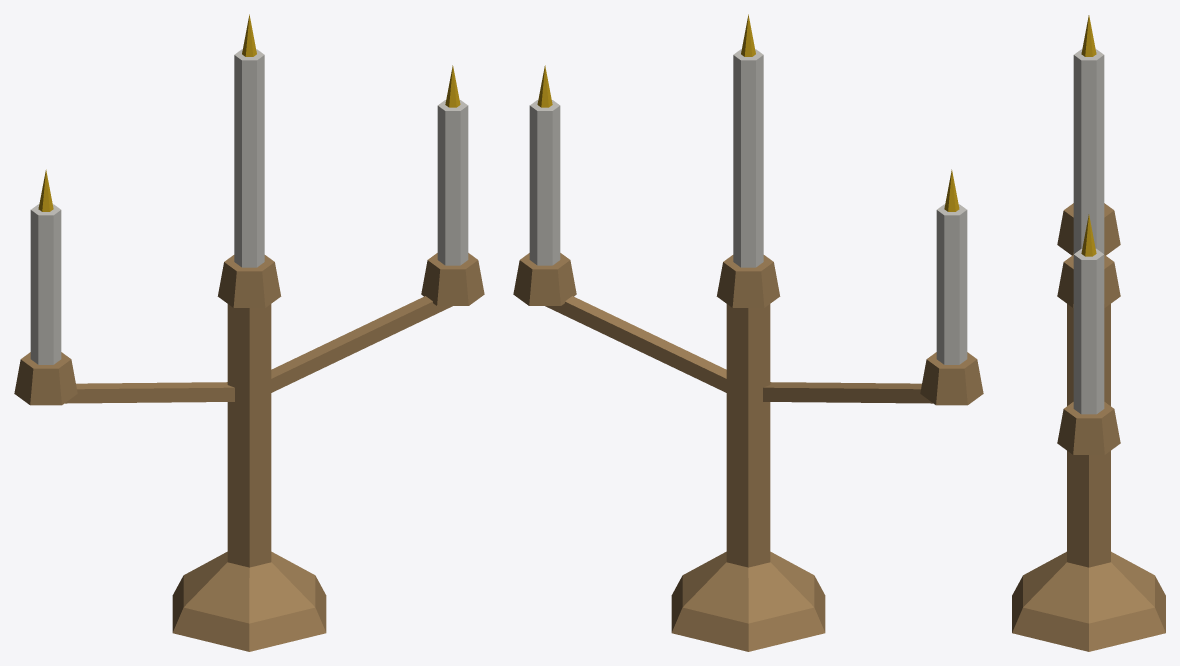
File: candle-holder-06.glb
3 renders of one model, left to right at view 1: azimuth 30°, elevation 25°; view 2: azimuth 150°, elevation 25°; view 3: azimuth 270°, elevation 25°, orthographic.
Parts seen in each view (by area): view 1: candle_holder_06; view 2: candle_holder_06; view 3: candle_holder_06.
Boxes of the visible parts, <box> form: candle_holder_06: <box>14,14,484,651</box>; candle_holder_06: <box>513,14,983,651</box>; candle_holder_06: <box>1012,15,1165,651</box>.
Bounding box in the file's own units: 0.4134 × 0.5219 × 0.1212.
